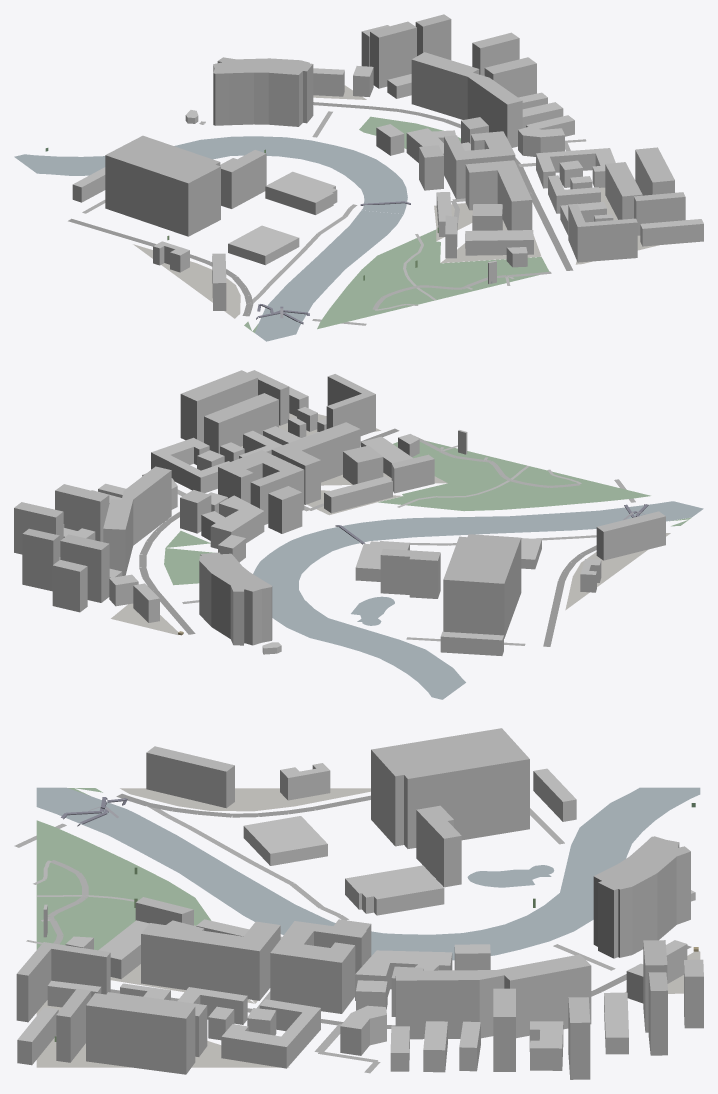
3 renders of one model, top to bottom at view 1: azimuth 30°, elevation 25°; view 2: azimuth 150°, elevation 25°; view 3: azimuth 270°, elevation 25°, orthographic. The views are drawn at different scales.
Bounding box in the file's own units: 551 × 59.09 × 520.
